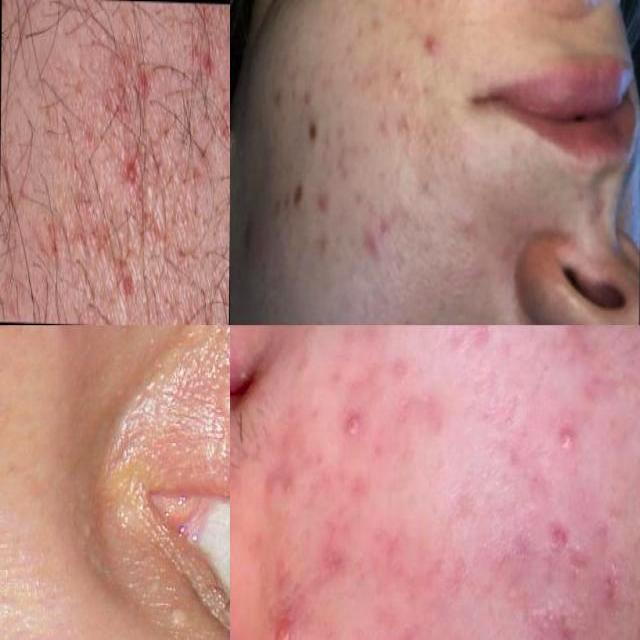Pimples: (546, 406, 590, 466), (534, 519, 578, 567), (308, 543, 353, 587), (255, 605, 310, 640), (160, 592, 197, 640), (412, 16, 444, 68), (549, 606, 592, 640), (335, 404, 368, 443), (361, 623, 426, 640), (416, 163, 440, 201), (125, 164, 141, 197), (200, 50, 216, 81)
